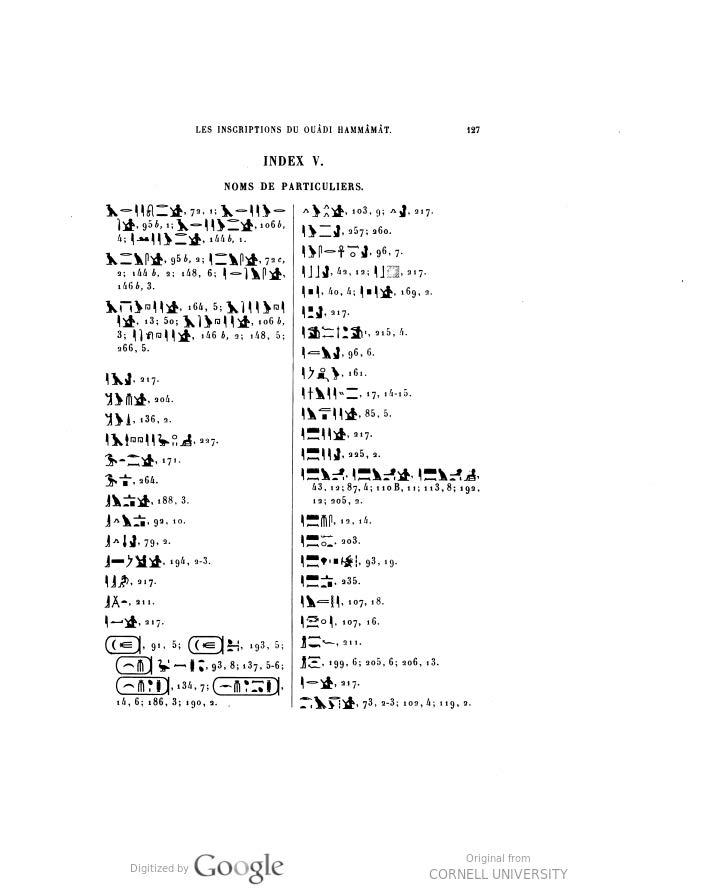circle: (204, 668, 284, 715), (99, 669, 185, 697), (180, 626, 233, 664), (95, 626, 150, 656), (115, 654, 161, 677)
